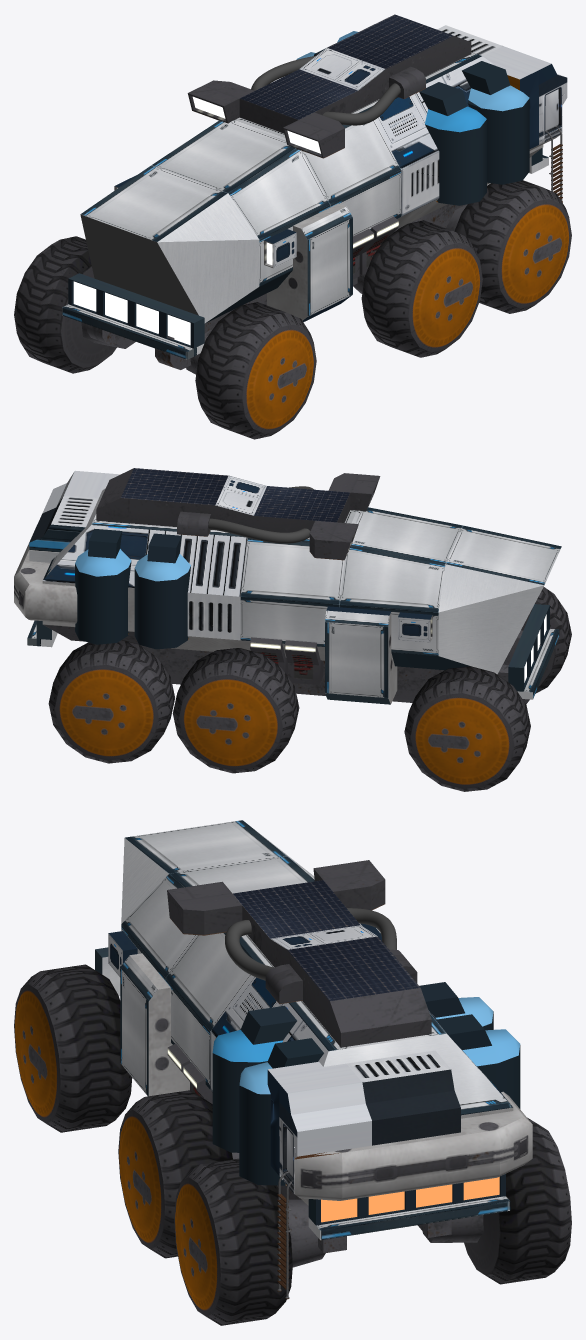
Rendered from terrainVehicle.glb.
3 renders of one model, top to bottom at view 1: azimuth 30°, elevation 25°; view 2: azimuth 150°, elevation 25°; view 3: azimuth 270°, elevation 25°, orthographic. The views are drawn at different scales.
Parts seen in each view (by area): view 1: Rover_Body_Rover_2ver_0, Rover_Front_Wheels, Rover_Midde_Wheels, Rover_Rear_Wheels, Front_Light, ladder, Main_Light_01, Main_Light_04, Main_Light_03, Main_Light_02; view 2: Rover_Body_Rover_2ver_0, Rover_Front_Wheels, Rover_Midde_Wheels, Rover_Rear_Wheels, Front_Light, Back_Light; view 3: Rover_Body_Rover_2ver_0, Rover_Rear_Wheels, Rover_Front_Wheels, Rover_Midde_Wheels, Back_Light, ladder, Back_Light_01, Back_Light_02, Back_Light_03, Back_Light_04.
Boxes of the visible parts, x1,y1,x2,y2 form: Rover_Body_Rover_2ver_0: [80, 14, 567, 369]; Rover_Front_Wheels: [14, 236, 316, 439]; Rover_Midde_Wheels: [361, 220, 482, 357]; Rover_Rear_Wheels: [454, 180, 571, 313]; Front_Light: [62, 273, 204, 359]; ladder: [545, 126, 562, 202]; Main_Light_01: [73, 281, 96, 311]; Main_Light_04: [167, 315, 190, 345]; Main_Light_03: [136, 303, 158, 333]; Main_Light_02: [105, 292, 127, 322]; Rover_Body_Rover_2ver_0: [14, 468, 561, 704]; Rover_Front_Wheels: [404, 587, 571, 791]; Rover_Midde_Wheels: [172, 648, 299, 773]; Rover_Rear_Wheels: [48, 640, 174, 763]; Front_Light: [508, 604, 559, 699]; Back_Light: [27, 620, 57, 647]; Rover_Body_Rover_2ver_0: [108, 820, 532, 1267]; Rover_Rear_Wheels: [174, 1117, 571, 1325]; Rover_Front_Wheels: [14, 964, 132, 1132]; Rover_Midde_Wheels: [118, 1090, 232, 1258]; Back_Light: [308, 1174, 510, 1240]; ladder: [277, 1172, 293, 1299]; Back_Light_01: [321, 1198, 357, 1222]; Back_Light_02: [368, 1191, 404, 1214]; Back_Light_03: [416, 1184, 452, 1207]; Back_Light_04: [463, 1177, 499, 1200].
Size of what is drawn, in the model's own units: 10.84 by 4.79 by 7.99.
9 materials, 6 textured.
